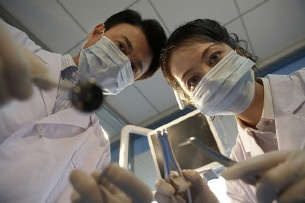Mask: (181, 45, 252, 116)
